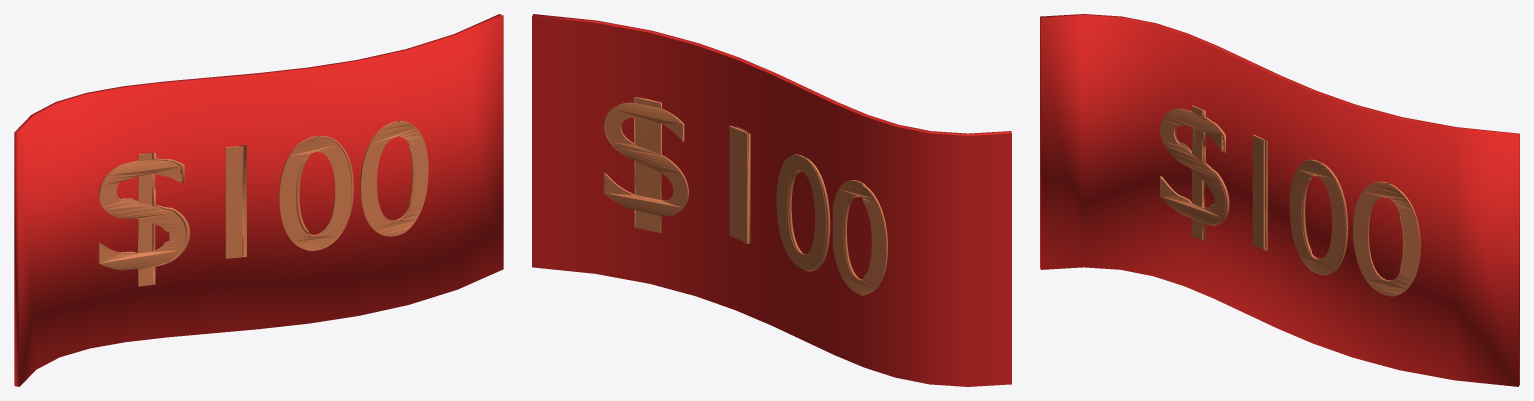
3 views of the same model, side by side, from view 1: azimuth 30°, elevation 25°; view 2: azimuth 150°, elevation 25°; view 3: azimuth 330°, elevation 25° (orthographic).
Parts seen in each view (by area): view 1: BézierCurve.001, Text; view 2: BézierCurve, Text.001, BézierCurve.001; view 3: BézierCurve.001, Text.
Boxes of the visible parts, x1,y1,x2,y2 form: BézierCurve.001: (14,14,503,386); Text: (98,121,428,286); BézierCurve: (532,16,1011,386); Text.001: (603,97,887,295); BézierCurve.001: (532,14,1011,135); BézierCurve.001: (1040,14,1519,386); Text: (1160,105,1420,296).
Size of the model in its own units: 201 by 100 by 27.9.
